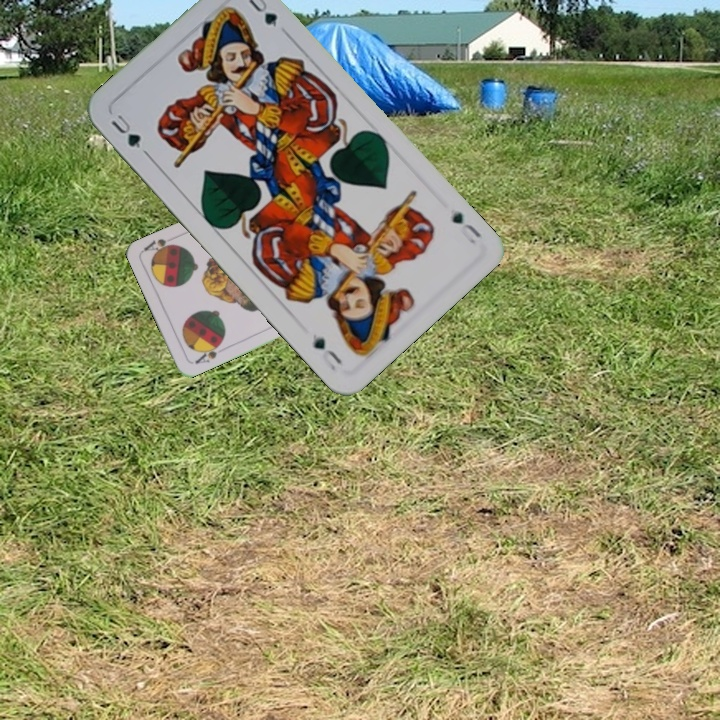GU: (106, 110, 144, 151), (448, 208, 484, 247)
SA: (190, 338, 225, 367)
